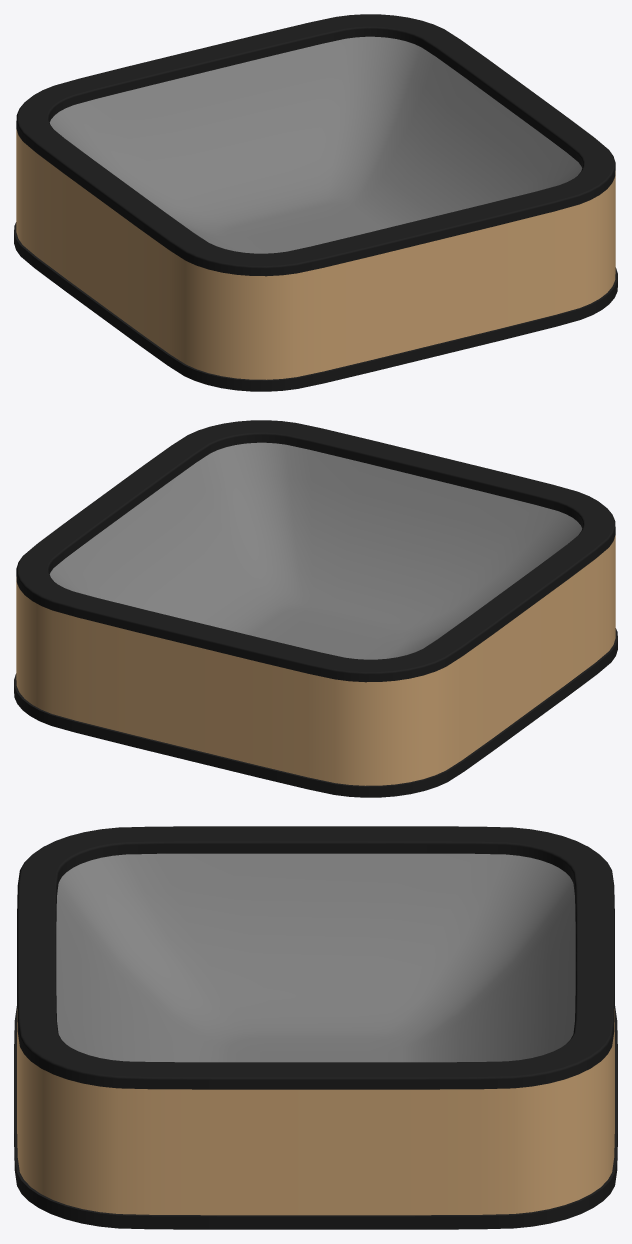
File: SM_URPWater_Tank.fbx
3 renders of one model, top to bottom at view 1: azimuth 30°, elevation 25°; view 2: azimuth 150°, elevation 25°; view 3: azimuth 270°, elevation 25°, orthographic. The views are drawn at different scales.
Parts seen in each view (by area): view 1: SM_URPWater_Tank; view 2: SM_URPWater_Tank; view 3: SM_URPWater_Tank.
Boxes of the visible parts, x1,y1,x2,y2 form: SM_URPWater_Tank: [14, 14, 617, 391]; SM_URPWater_Tank: [14, 420, 617, 797]; SM_URPWater_Tank: [14, 826, 617, 1229].
Bounding box in the file's own units: 2020 × 555 × 2020.
